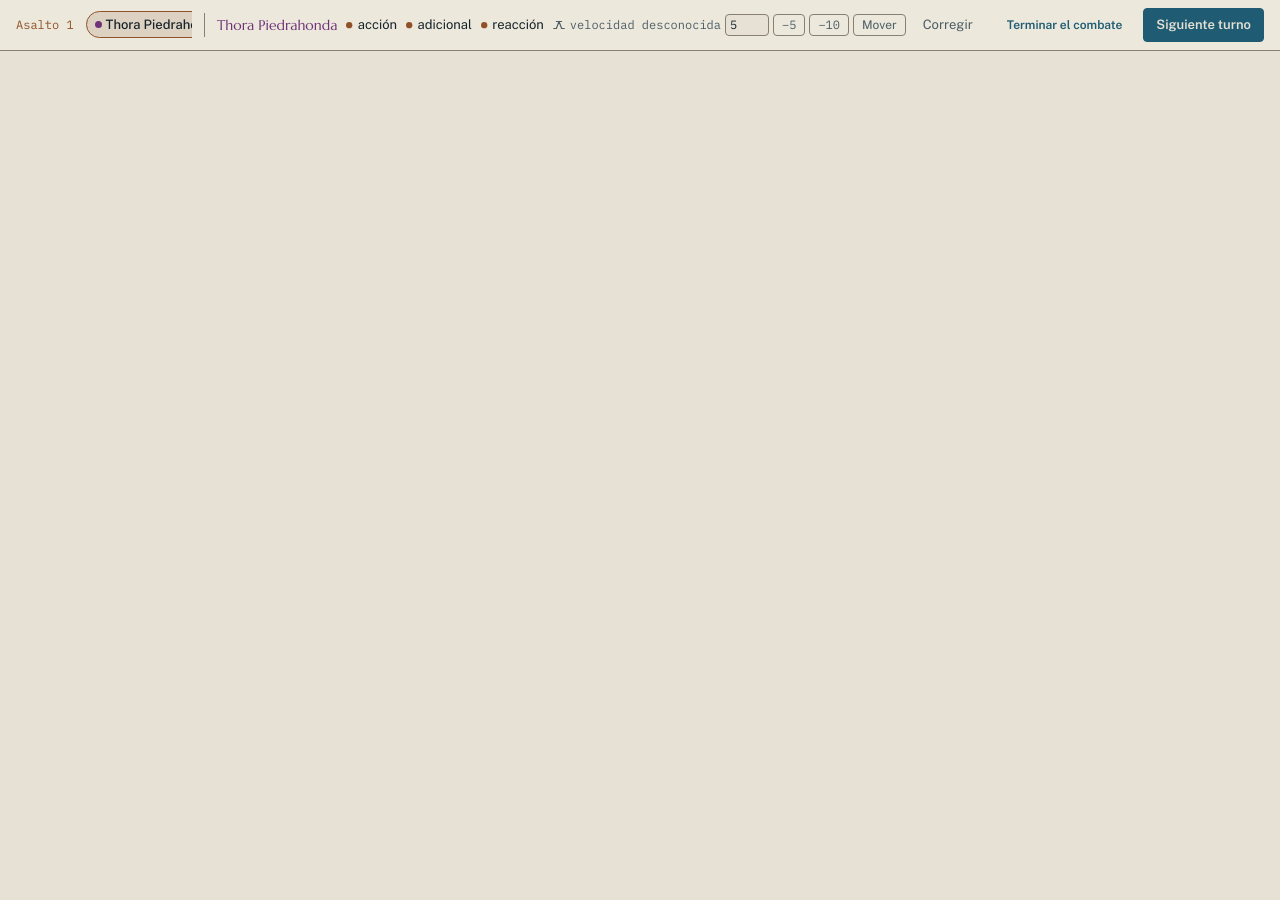
Test: terminar el combate: la frase del asalto (5.1) › con round: 1 el diálogo dice «su asalto», no «sus 1 asaltos»
The width and height of the screenshot is (1280, 900).
Click the button "Terminar el combate".
click(1065, 25)  # box [994,9,1135,41]
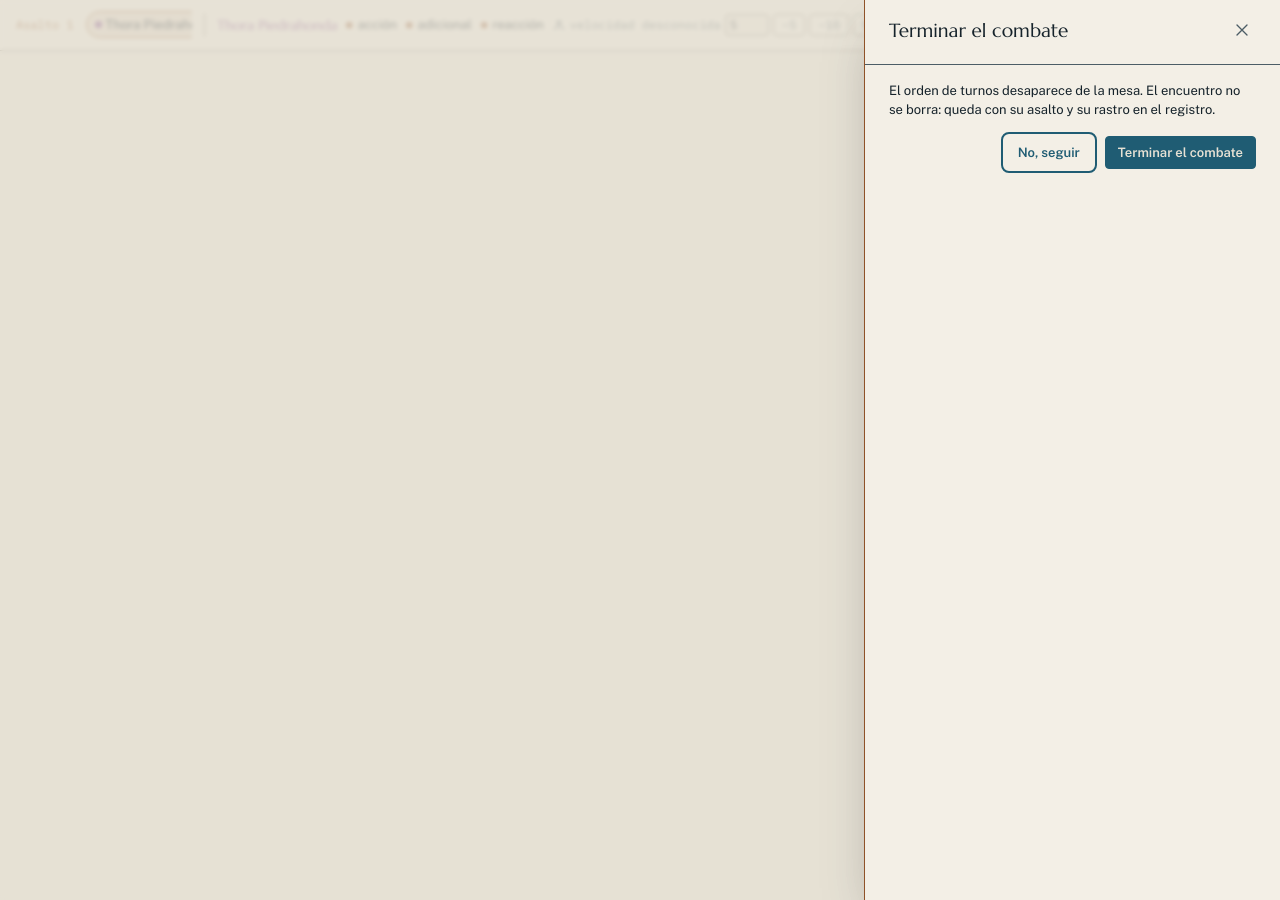
Expected: the dialog does not show "sus 1 asalto", [864,0,1279,899]
Result: the dialog shows "queda con su asalto y su rastro en el registro." at [864,0,1279,899]
